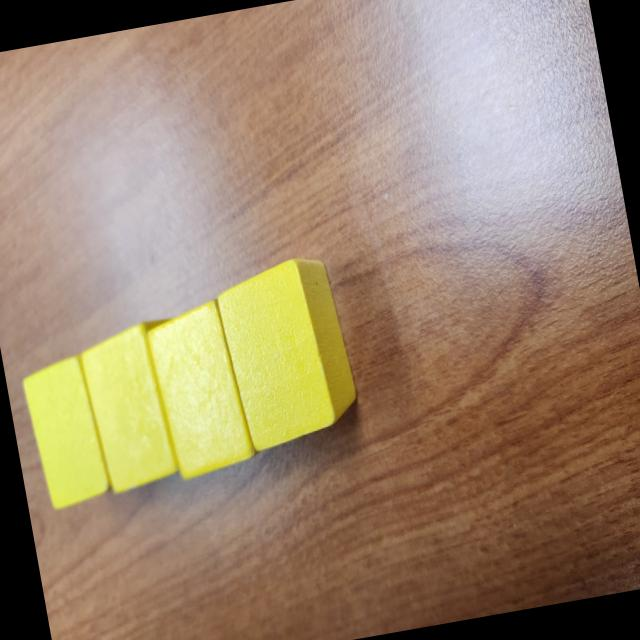yellow: (212, 253, 364, 453), (143, 296, 264, 485), (74, 316, 200, 497), (20, 354, 114, 512)
